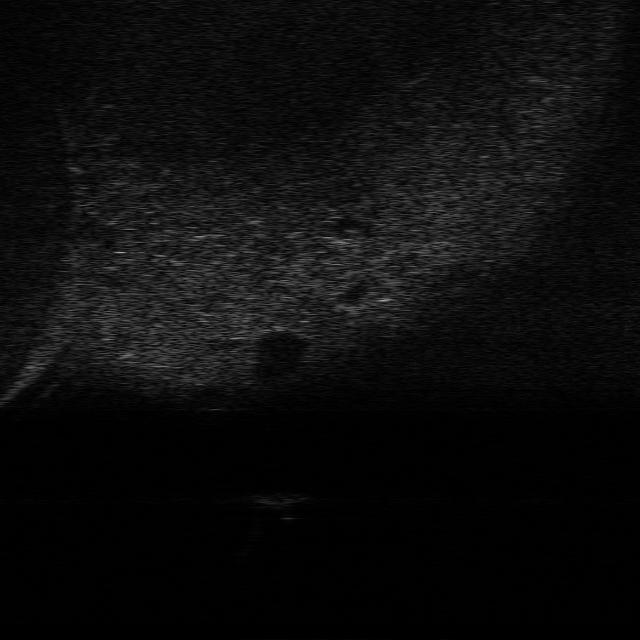cube: (248, 486, 312, 520)
